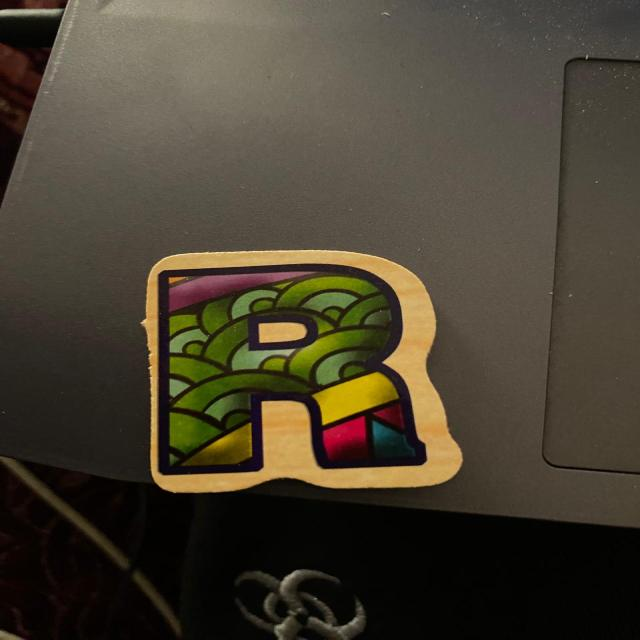R: (145, 251, 461, 493)
